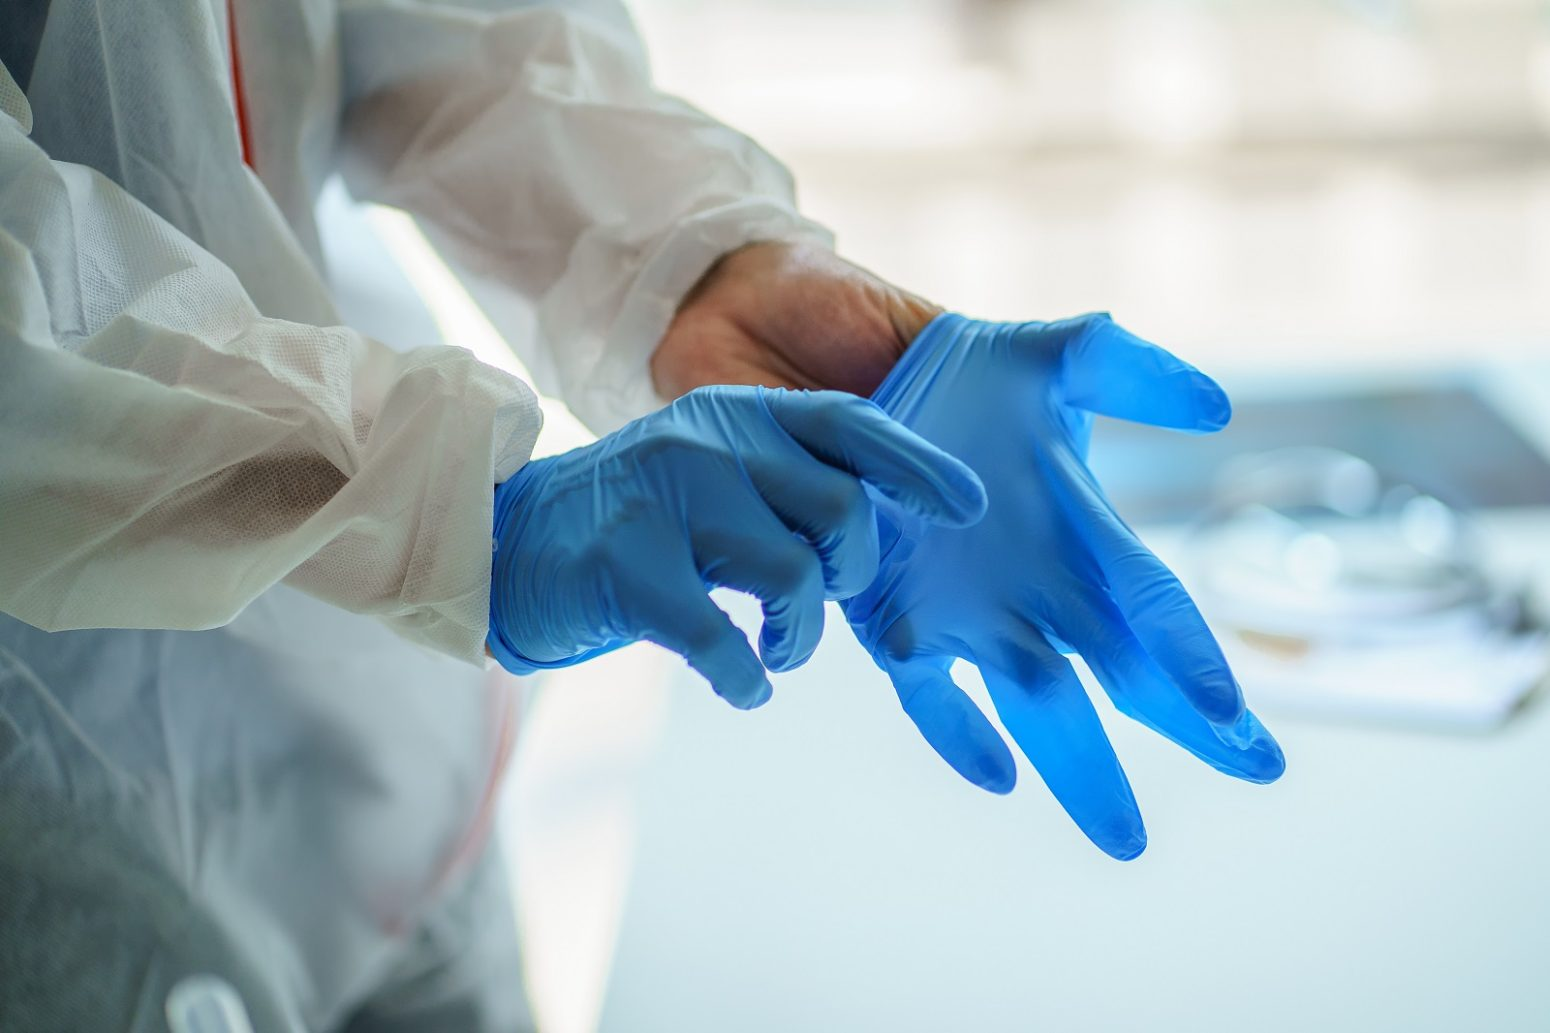gloves: (805, 296, 1296, 867), (460, 383, 994, 719)
